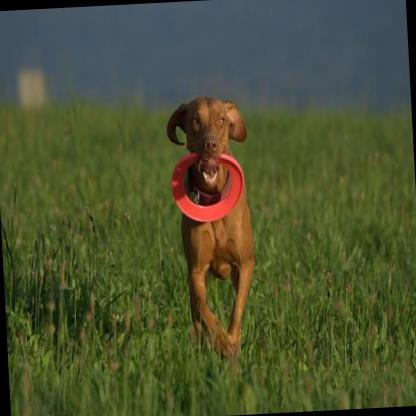vizsla: (163, 93, 262, 362)
